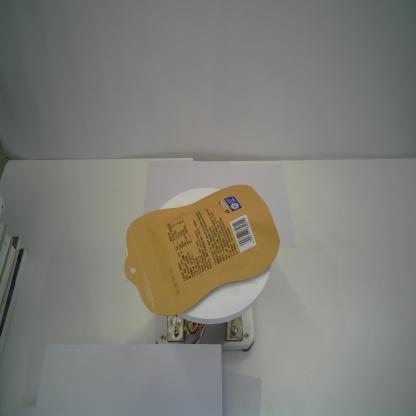Dried Fruit: (124, 185, 282, 316)
